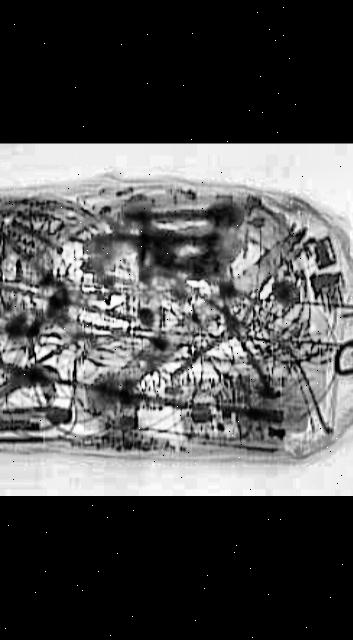Pliers: (166, 285, 300, 398), (0, 349, 64, 402)
